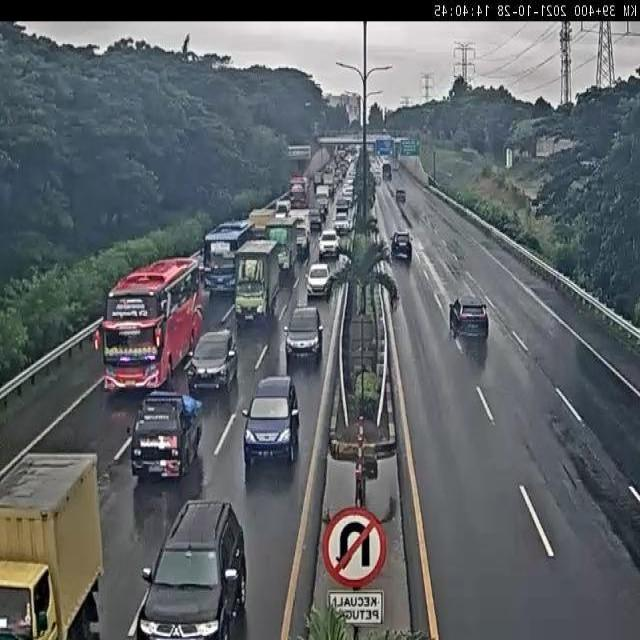Bus: (85, 218, 202, 427), (234, 239, 285, 330), (203, 220, 253, 291)
Car: (450, 297, 489, 340), (318, 230, 340, 260), (390, 231, 412, 260), (395, 190, 406, 203)
Truck: (0, 455, 104, 640), (136, 500, 246, 638), (243, 374, 302, 474), (0, 559, 57, 640), (332, 419, 382, 480), (262, 218, 304, 280), (284, 304, 324, 368), (334, 276, 356, 388), (350, 370, 382, 425), (456, 329, 488, 370), (248, 208, 280, 240), (306, 262, 333, 298), (1, 610, 32, 640), (286, 145, 312, 176), (372, 258, 390, 286), (308, 208, 324, 234), (335, 252, 351, 277), (316, 184, 330, 212), (335, 200, 350, 226), (358, 278, 368, 316), (192, 248, 206, 274), (377, 241, 392, 264), (290, 174, 308, 193), (323, 171, 337, 195), (337, 188, 352, 210), (335, 158, 348, 183), (379, 154, 392, 178), (336, 146, 350, 167), (369, 216, 380, 242), (275, 199, 291, 216), (291, 194, 307, 210), (316, 202, 327, 224), (344, 212, 356, 232), (200, 262, 212, 282), (529, 197, 542, 214), (354, 152, 364, 174), (314, 172, 324, 194), (461, 146, 479, 157), (347, 146, 359, 161), (580, 159, 598, 169), (266, 200, 279, 212), (392, 293, 399, 314), (312, 120, 320, 138), (392, 232, 401, 248), (280, 188, 290, 201), (366, 141, 375, 155), (506, 148, 512, 169), (427, 175, 436, 188), (313, 133, 322, 145), (328, 148, 336, 161), (414, 140, 421, 154), (392, 160, 400, 172), (374, 174, 382, 186), (408, 232, 414, 243), (392, 138, 402, 144), (392, 189, 397, 200), (382, 127, 388, 134), (446, 172, 453, 178)
